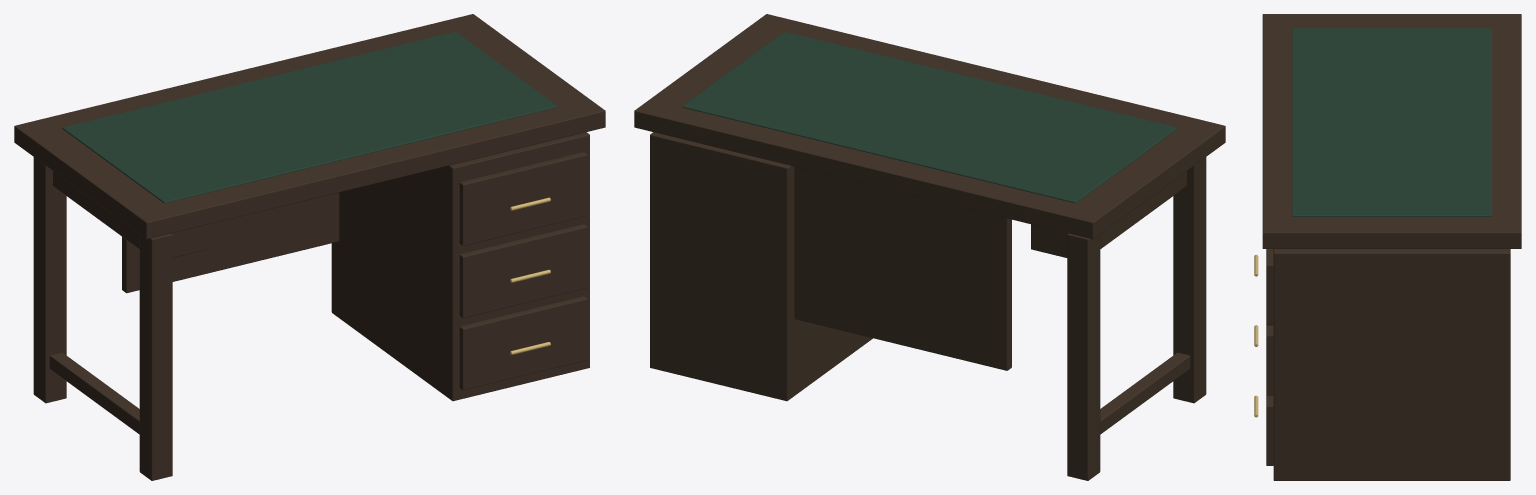
The model's file is SM_Furniture_Desk_01.glb.
The picture shows the model from 3 angles, left to right: view 1: azimuth 30°, elevation 25°; view 2: azimuth 150°, elevation 25°; view 3: azimuth 270°, elevation 25°; orthographic projection. The views are drawn at different scales.
Visible parts, largest first — view 1: SM_Furniture_Desk_01; view 2: SM_Furniture_Desk_01; view 3: SM_Furniture_Desk_01.
Boxes of the visible parts, box(x1,y1,x2,y2) form: SM_Furniture_Desk_01: box(14, 14, 605, 480); SM_Furniture_Desk_01: box(634, 14, 1225, 480); SM_Furniture_Desk_01: box(1254, 14, 1521, 480).
Size of the model in its own units: 1.4 by 0.7815 by 0.7225.
